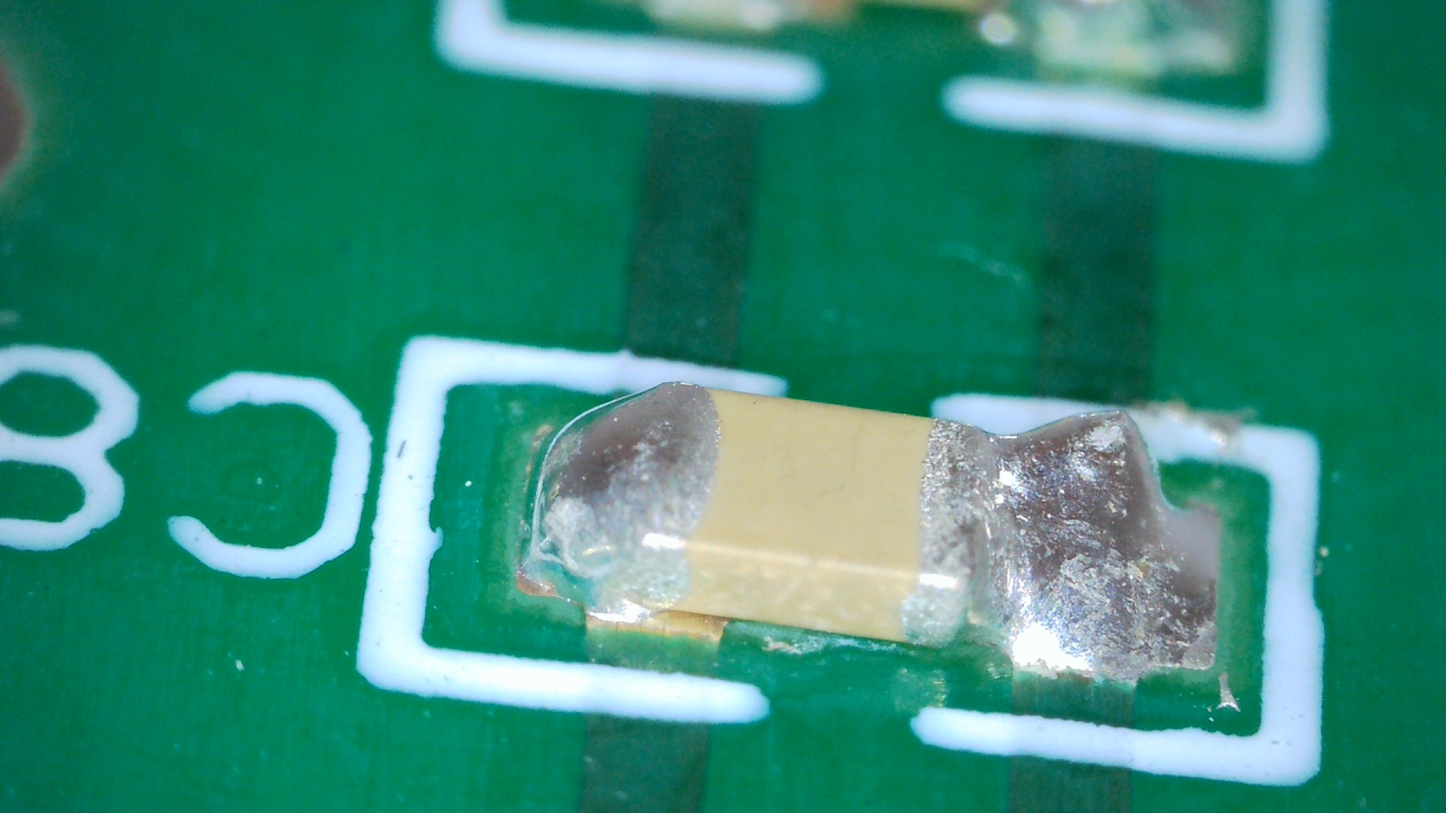NG: (918, 412, 1213, 680), (528, 383, 717, 619), (969, 421, 1156, 543)
